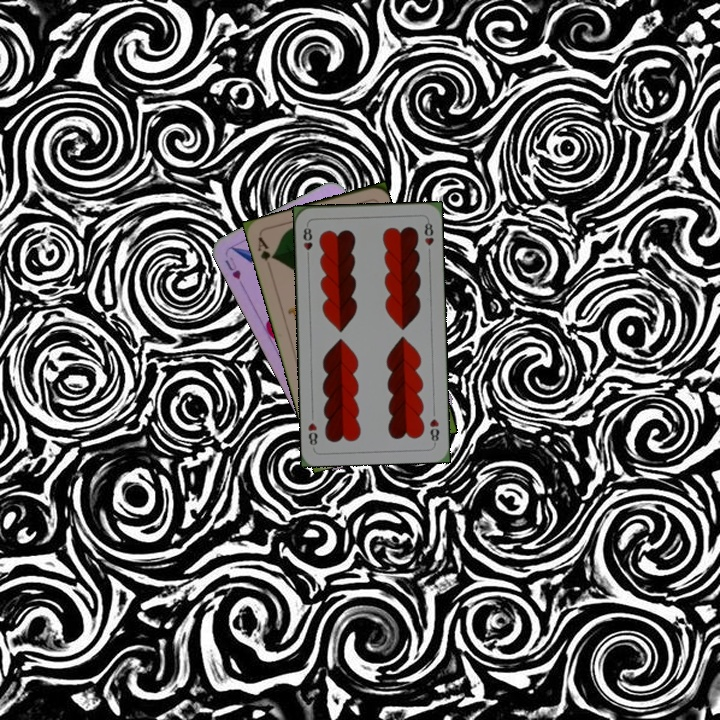GA: (254, 233, 277, 264)
H8: (299, 221, 315, 261), (425, 415, 442, 446)
HU: (221, 253, 243, 282)
